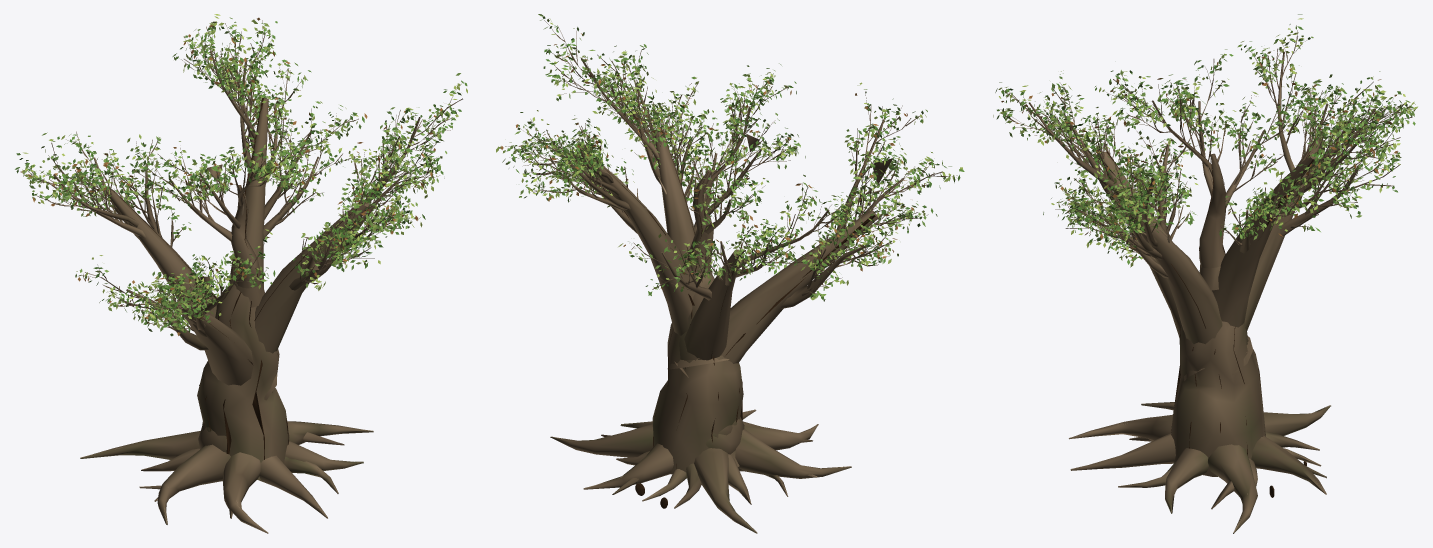
Rendered from ancient_tree_06_lod2.glb.
3 views of the same model, side by side, from view 1: azimuth 30°, elevation 25°; view 2: azimuth 150°, elevation 25°; view 3: azimuth 270°, elevation 25° (orthographic). The views are drawn at different scales.
Parts seen in each view (by area): view 1: AncientTreeWood_LOD2, AncientLeaves_LOD2, FineBranches_LOD2, DirectedBarkGrooves_LOD2; view 2: AncientTreeWood_LOD2, AncientLeaves_LOD2, FineBranches_LOD2, DirectedBarkGrooves_LOD2; view 3: AncientTreeWood_LOD2, AncientLeaves_LOD2, FineBranches_LOD2, DirectedBarkGrooves_LOD2.
Boxes of the visible parts, bbox=[...] form: AncientTreeWood_LOD2: bbox=[26, 26, 462, 533]; AncientLeaves_LOD2: bbox=[15, 14, 467, 336]; FineBranches_LOD2: bbox=[20, 20, 461, 330]; DirectedBarkGrooves_LOD2: bbox=[106, 98, 362, 459]; AncientTreeWood_LOD2: bbox=[518, 25, 942, 533]; AncientLeaves_LOD2: bbox=[496, 14, 964, 301]; FineBranches_LOD2: bbox=[505, 20, 957, 295]; DirectedBarkGrooves_LOD2: bbox=[594, 133, 875, 469]; AncientTreeWood_LOD2: bbox=[1001, 36, 1403, 533]; AncientLeaves_LOD2: bbox=[993, 14, 1417, 267]; FineBranches_LOD2: bbox=[1000, 25, 1412, 257]; DirectedBarkGrooves_LOD2: bbox=[1099, 142, 1315, 455].
Bounding box in the file's own units: 20.62 × 20.68 × 19.13.
